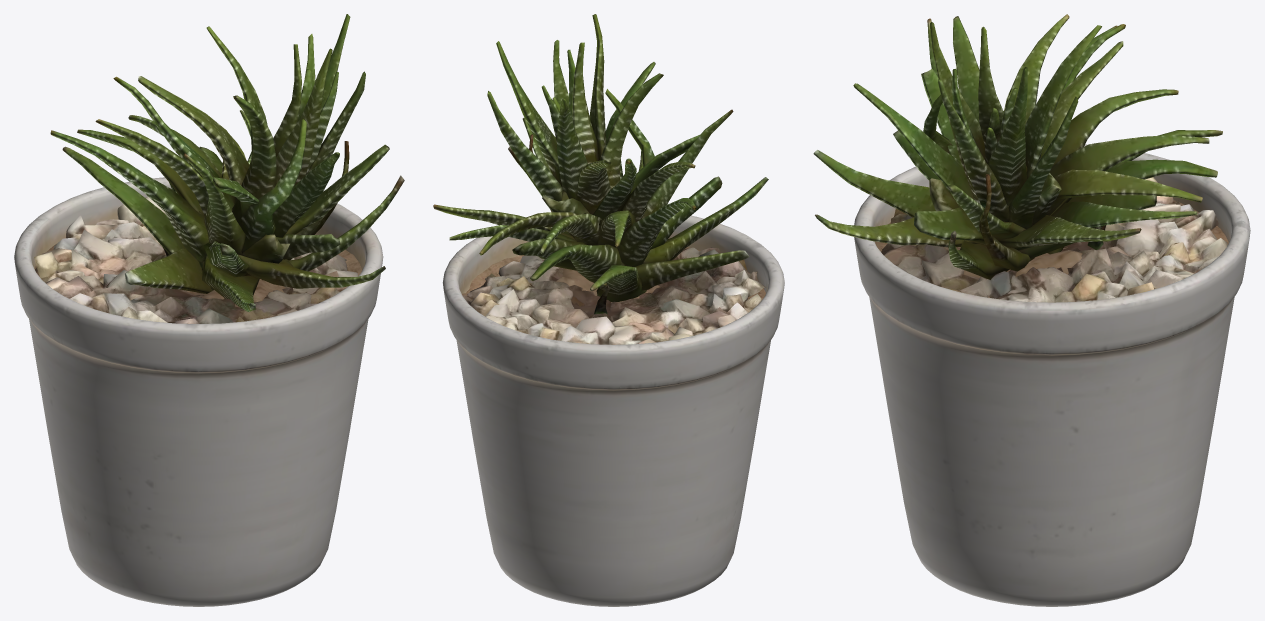
The model's file is nature-ph-succulent-haworthia.glb.
3 views of the same model, side by side, from view 1: azimuth 30°, elevation 25°; view 2: azimuth 150°, elevation 25°; view 3: azimuth 270°, elevation 25° (orthographic). The views are drawn at different scales.
Visible parts, largest first — view 1: potted_plant_04_pot, potted_plant_04_plant, potted_plant_04_ground, potted_plant_04_dirt; view 2: potted_plant_04_pot, potted_plant_04_plant, potted_plant_04_ground, potted_plant_04_dirt; view 3: potted_plant_04_pot, potted_plant_04_plant, potted_plant_04_ground, potted_plant_04_dirt.
Boxes of the visible parts, x1,y1,x2,y2 form: potted_plant_04_pot: (14,177,383,606); potted_plant_04_plant: (50,14,404,311); potted_plant_04_ground: (34,196,357,323); potted_plant_04_dirt: (34,238,362,307); potted_plant_04_pot: (442,215,784,606); potted_plant_04_plant: (433,14,768,314); potted_plant_04_ground: (463,247,765,344); potted_plant_04_dirt: (462,247,765,306); potted_plant_04_pot: (854,144,1250,606); potted_plant_04_plant: (813,14,1222,279); potted_plant_04_ground: (881,177,1227,302); potted_plant_04_dirt: (875,200,1228,297).
Bounding box in the file's own units: 0.1679 × 0.2675 × 0.1848.
Materials: 1 (1 with a texture image).
